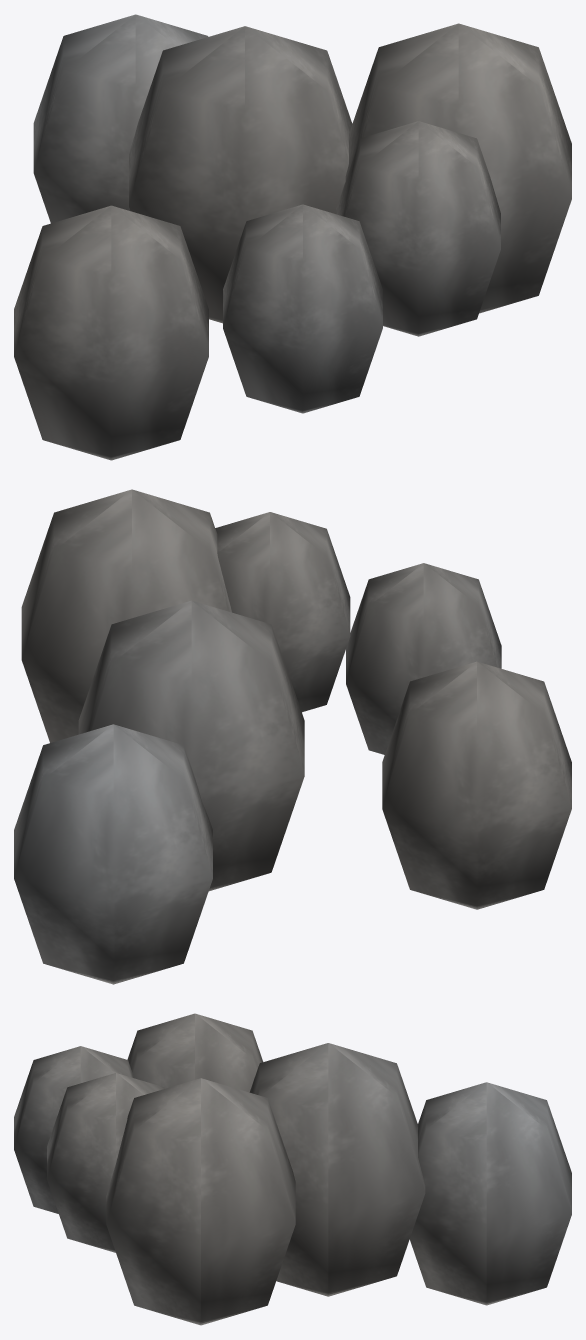
Rendered from bulb_tree_l1.gltf.
3 views of the same model, one above another, from view 1: azimuth 30°, elevation 25°; view 2: azimuth 150°, elevation 25°; view 3: azimuth 270°, elevation 25° (orthographic). The views are drawn at different scales.
Visible parts, largest first — view 1: bulb_tree_l1; view 2: bulb_tree_l1; view 3: bulb_tree_l1.
Boxes of the visible parts, bbox=[...] form: bulb_tree_l1: bbox=[14, 14, 571, 460]; bulb_tree_l1: bbox=[14, 489, 571, 984]; bulb_tree_l1: bbox=[14, 1013, 571, 1325].
Size of the model in its own units: 1.85 by 1.1 by 1.91.
Materials: 1 (1 with a texture image).
